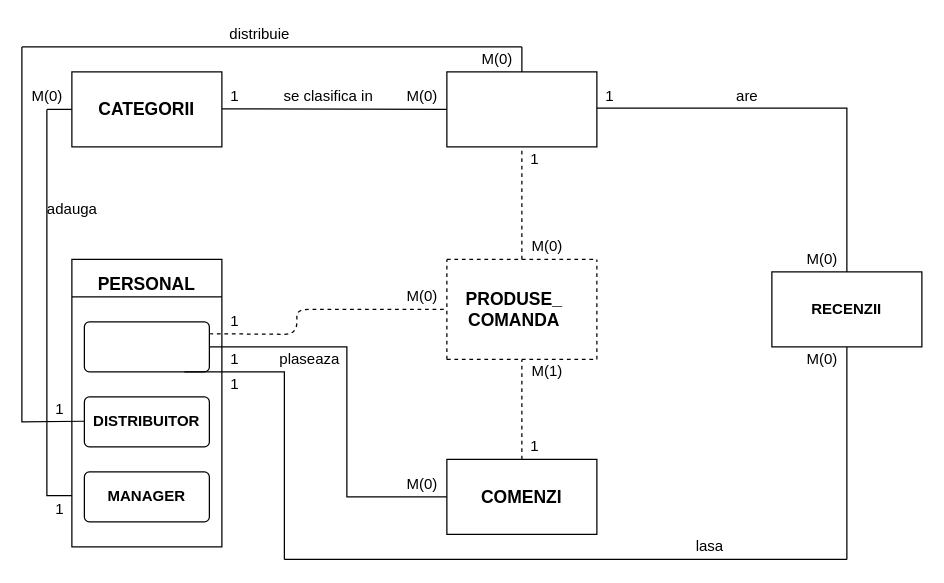
Image size: 944x583. Some labels were removed from this diagram. The centre of each missing label's shape, as x and y in pixels:
"CLIENT" belongs at (146,346).
"PRODUSE" belongs at (521,109).
